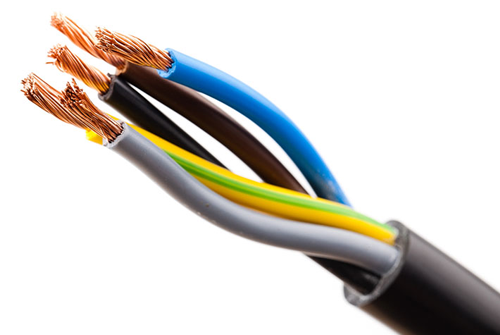Nonrec_Tangler: (11, 14, 496, 322)
